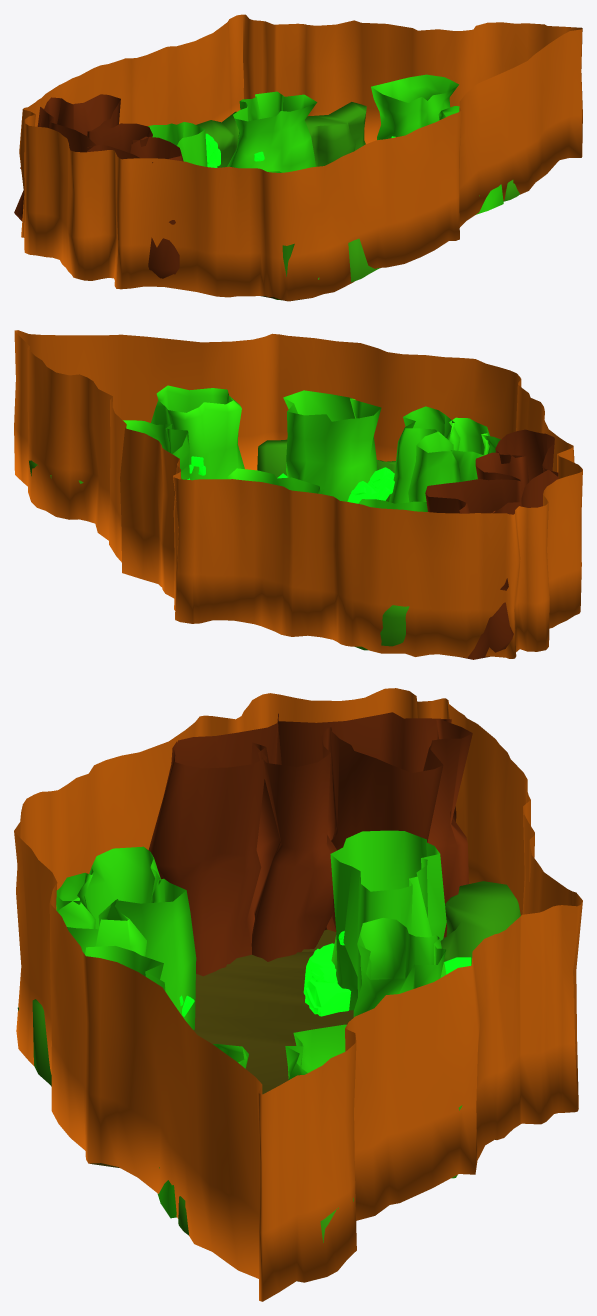
The model's file is BlocosAreaVerde.fbx.
3 views of the same model, one above another, from view 1: azimuth 30°, elevation 25°; view 2: azimuth 150°, elevation 25°; view 3: azimuth 270°, elevation 25° (orthographic). The views are drawn at different scales.
Parts seen in each view (by area): view 1: Piso, Rochas, RochasSaida, Mato; view 2: Piso, Rochas, RochasSaida, Mato; view 3: Piso, RochasSaida, Rochas, Mato, Green_Crystal_08.004.
Boxes of the visible parts, <box> form: Piso: <box>19,14,582,301</box>; Rochas: <box>148,74,503,214</box>; RochasSaida: <box>14,94,183,278</box>; Mato: <box>196,102,519,300</box>; Piso: <box>14,330,582,658</box>; Rochas: <box>123,385,500,511</box>; RochasSaida: <box>425,429,558,659</box>; Mato: <box>29,439,409,650</box>; Piso: <box>14,688,582,1301</box>; RochasSaida: <box>148,712,472,976</box>; Rochas: <box>56,830,446,1218</box>; Mato: <box>17,881,520,1242</box>; Green_Crystal_08.004: <box>305,979,351,1016</box>.
Size of the model in its own units: 24421 by 6114 by 14425.
